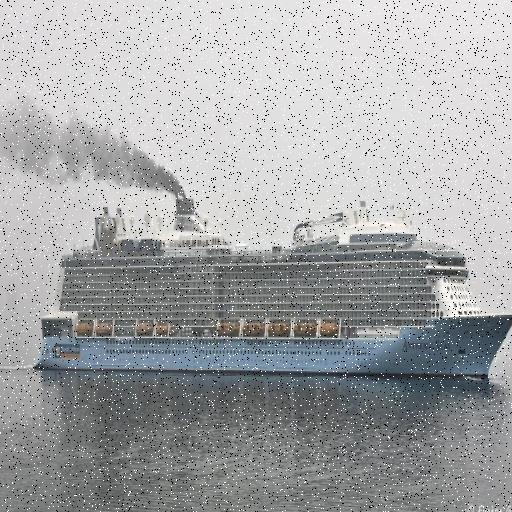cruises: (31, 190, 512, 389)
